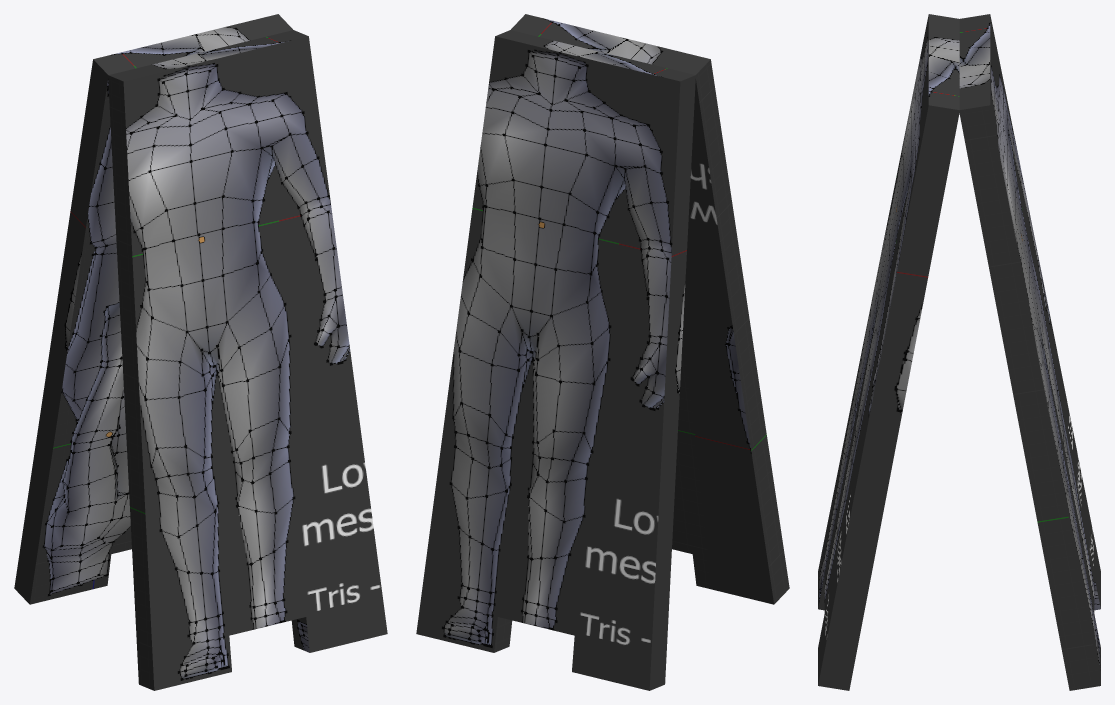
The model's file is Sign.FBX.
The picture shows the model from 3 angles, left to right: view 1: azimuth 30°, elevation 25°; view 2: azimuth 150°, elevation 25°; view 3: azimuth 270°, elevation 25°; orthographic projection.
Visible parts, largest first — view 1: Box001; view 2: Box001; view 3: Box001.
Part boxes in pixels (left/top/right/bottom): Box001: left=14, top=14, right=387, bottom=690; Box001: left=416, top=14, right=789, bottom=690; Box001: left=818, top=14, right=1100, bottom=690.
Bounding box in the file's own units: 43.64 × 102 × 45.39.
Materials: 1 (1 with a texture image).
